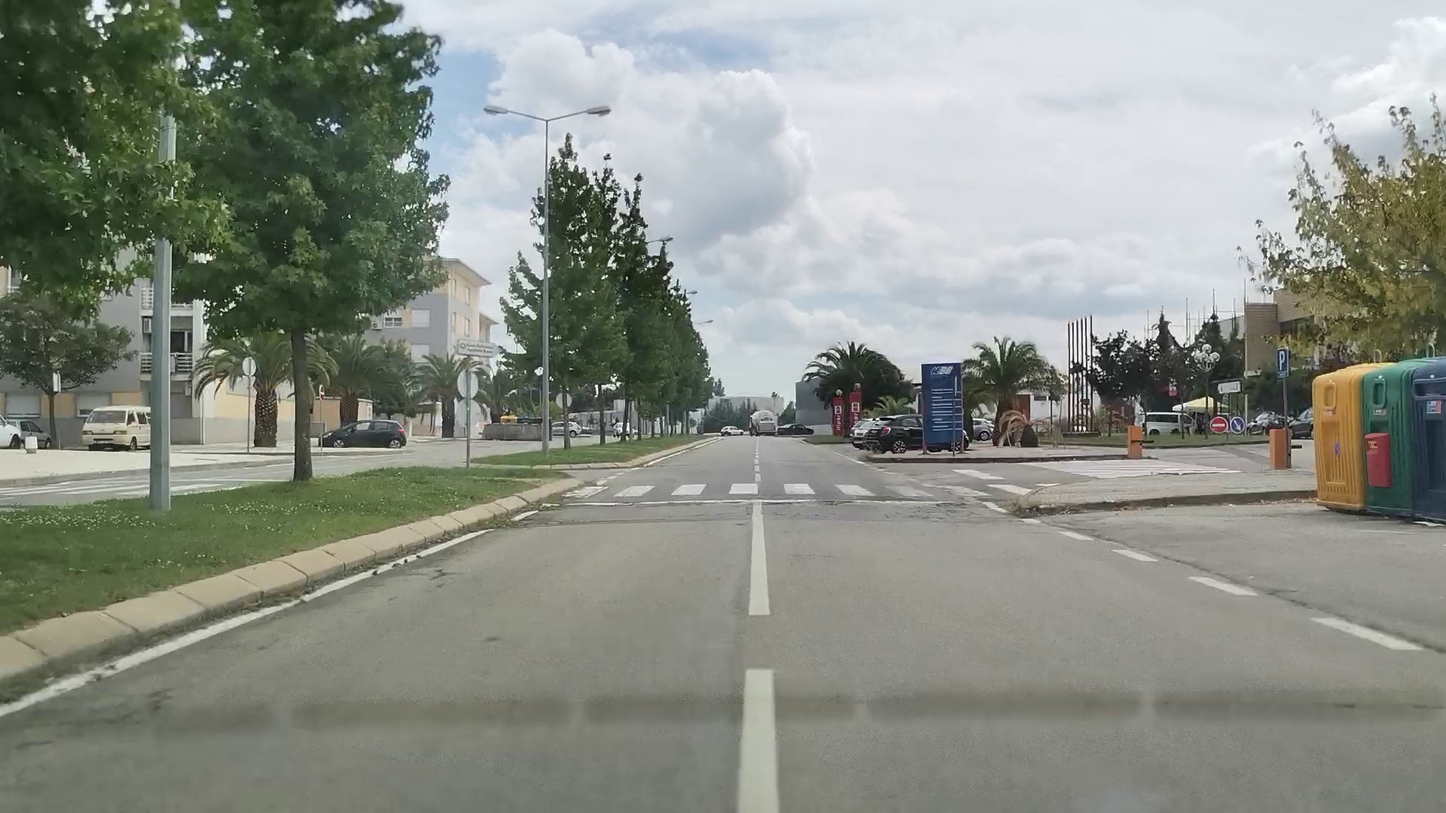Stairs: (572, 479, 968, 498)
